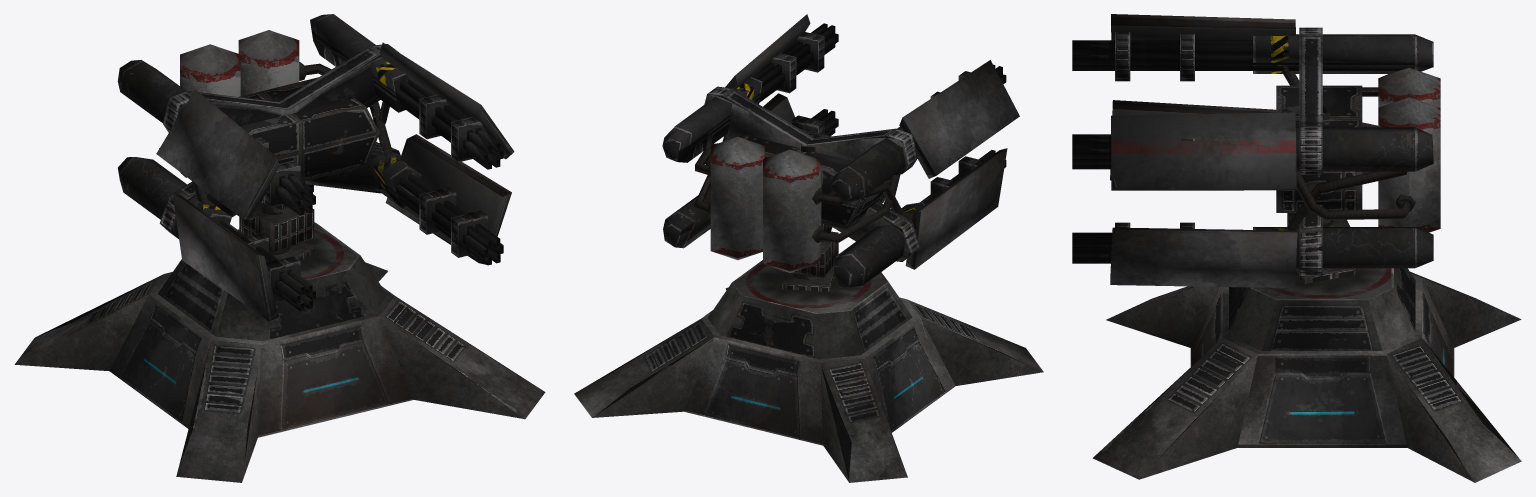
Rendered from Heavy_machineguner_lod2.obj.
3 views of the same model, side by side, from view 1: azimuth 30°, elevation 25°; view 2: azimuth 150°, elevation 25°; view 3: azimuth 270°, elevation 25° (orthographic). The views are drawn at different scales.
Visible parts, largest first — view 1: Heavy_machineguner_lod2.obj; view 2: Heavy_machineguner_lod2.obj; view 3: Heavy_machineguner_lod2.obj.
Boxes of the visible parts, left/top/right/bottom form: Heavy_machineguner_lod2.obj: left=15, top=14, right=545, bottom=482; Heavy_machineguner_lod2.obj: left=574, top=14, right=1043, bottom=482; Heavy_machineguner_lod2.obj: left=1072, top=14, right=1521, bottom=482.
Size of the model in its own units: 1.53 by 1.25 by 1.55.
Materials: 1 (1 with a texture image).
